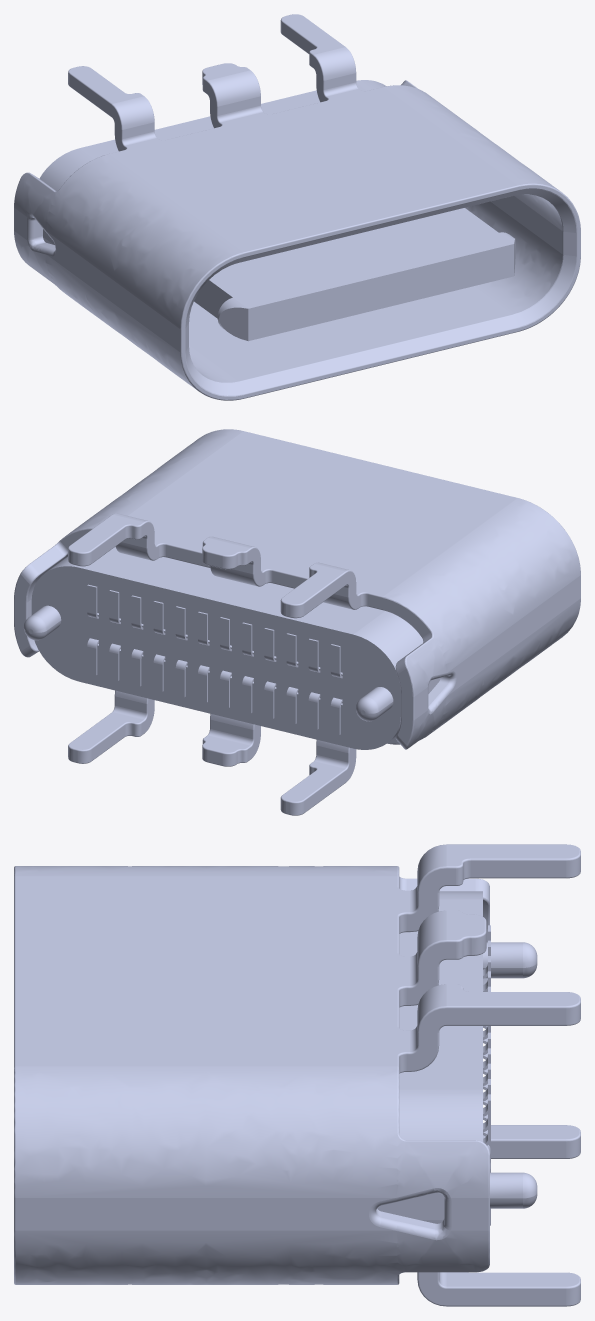
The model's file is USB-C.glb.
The picture shows the model from 3 angles, top to bottom: view 1: azimuth 30°, elevation 25°; view 2: azimuth 150°, elevation 25°; view 3: azimuth 270°, elevation 25°; orthographic projection. The views are drawn at different scales.
Parts seen in each view (by area): view 1: empty_2, empty_28, empty_5, empty_7, empty_10, empty_4, empty_24, empty_16, empty_17, empty_15, empty_18, empty_13 (+2 smaller); view 2: empty_2, empty_28, empty_27; view 3: empty_2, empty_28.
Boxes of the visible parts, x1,y1,x2,y2 form: empty_2: (14, 14, 580, 400); empty_28: (39, 80, 515, 341); empty_5: (445, 208, 508, 246); empty_7: (268, 251, 326, 286); empty_10: (378, 224, 436, 259); empty_4: (210, 270, 264, 306); empty_24: (356, 230, 412, 262); empty_16: (401, 219, 456, 251); empty_17: (312, 241, 368, 273); empty_15: (290, 246, 346, 278); empty_18: (334, 235, 390, 268); empty_13: (246, 257, 301, 289); empty_2: (14, 429, 580, 815); empty_28: (23, 546, 440, 749); empty_27: (65, 620, 364, 695); empty_2: (14, 844, 580, 1306); empty_28: (377, 891, 537, 1223).
Bounding box in the file's own units: 9.04 × 4.56 × 7.8.
